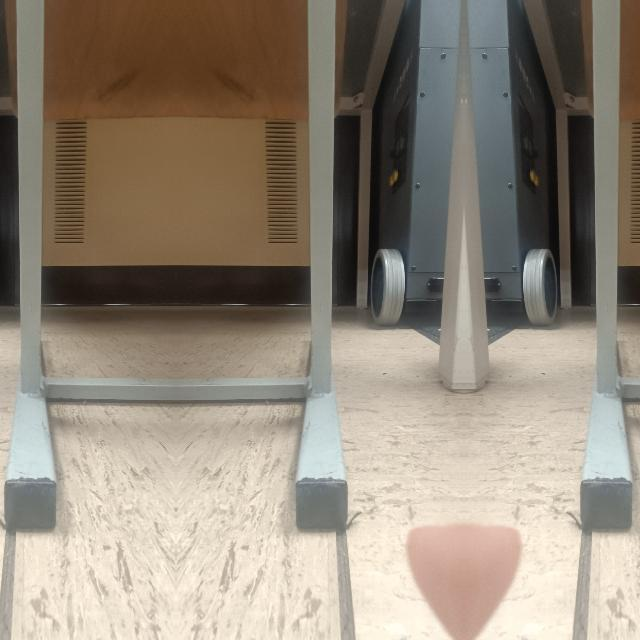obstacle: (578, 264, 636, 528), (1, 264, 58, 528), (292, 264, 348, 528)
